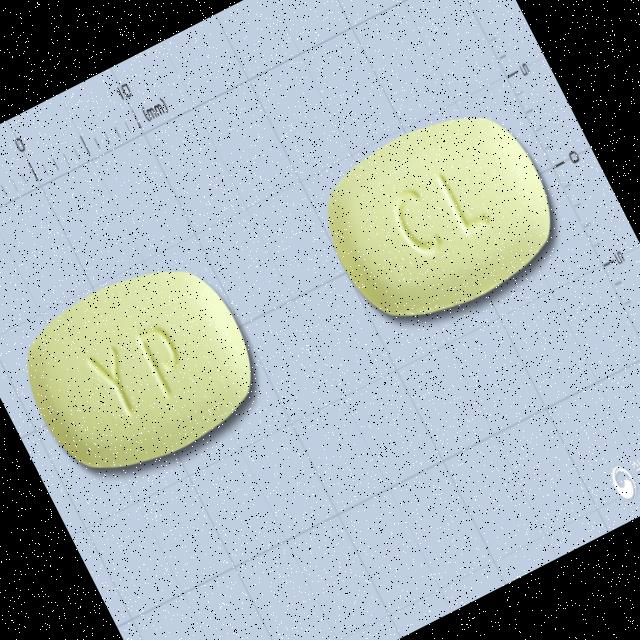Clarithromycin Tab- Youngpoong: (2, 238, 280, 502), (302, 89, 578, 348)
